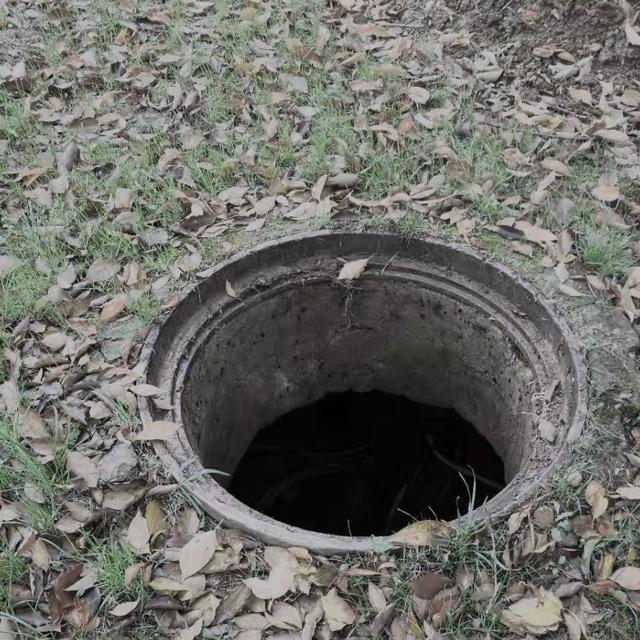lose: (134, 228, 588, 555)
